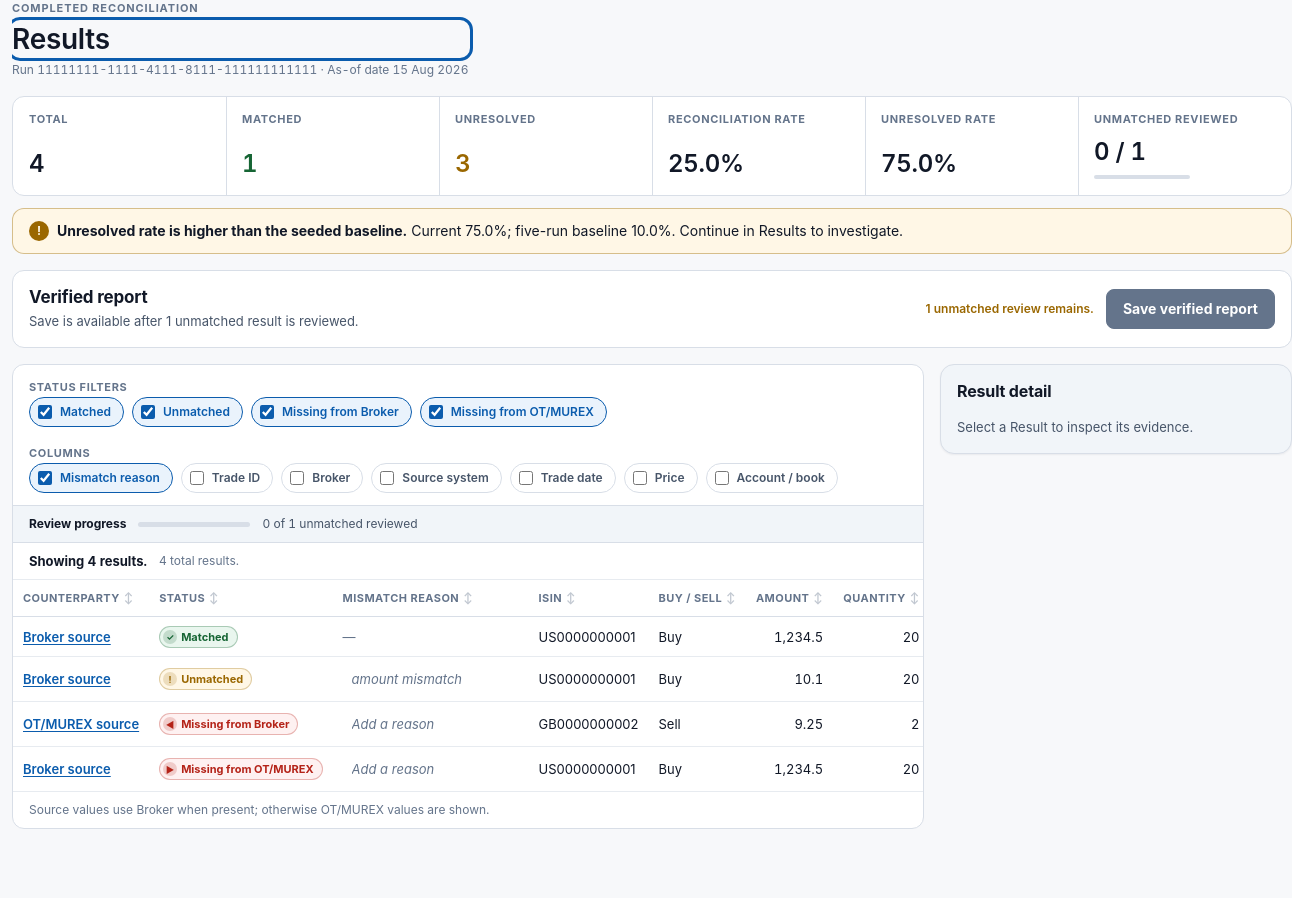
Test: Results workspace table › prefills and saves an unresolved comment only after the authoritative workspace confirms it
The width and height of the screenshot is (1292, 898).
Click the button with aria-label "Select BRK-8".
click(67, 679)  # box [23,669,111,689]
(page scrolled)
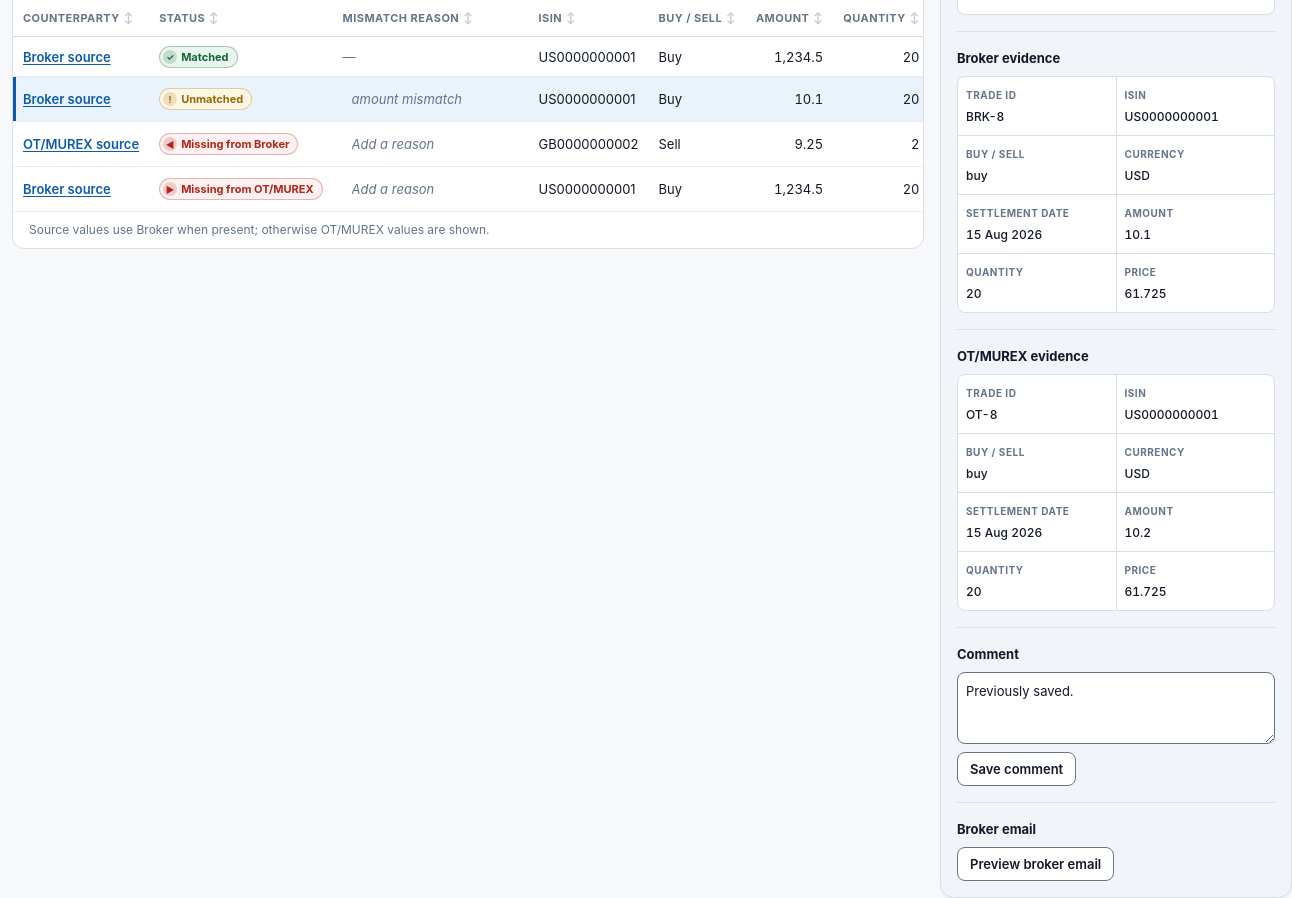
Check: the text box named "Comment" holds "Previously saved."
Replace the text in the text box named "Comment" with "Awaiting broker response." at (1116, 708), box [957,672,1275,744]
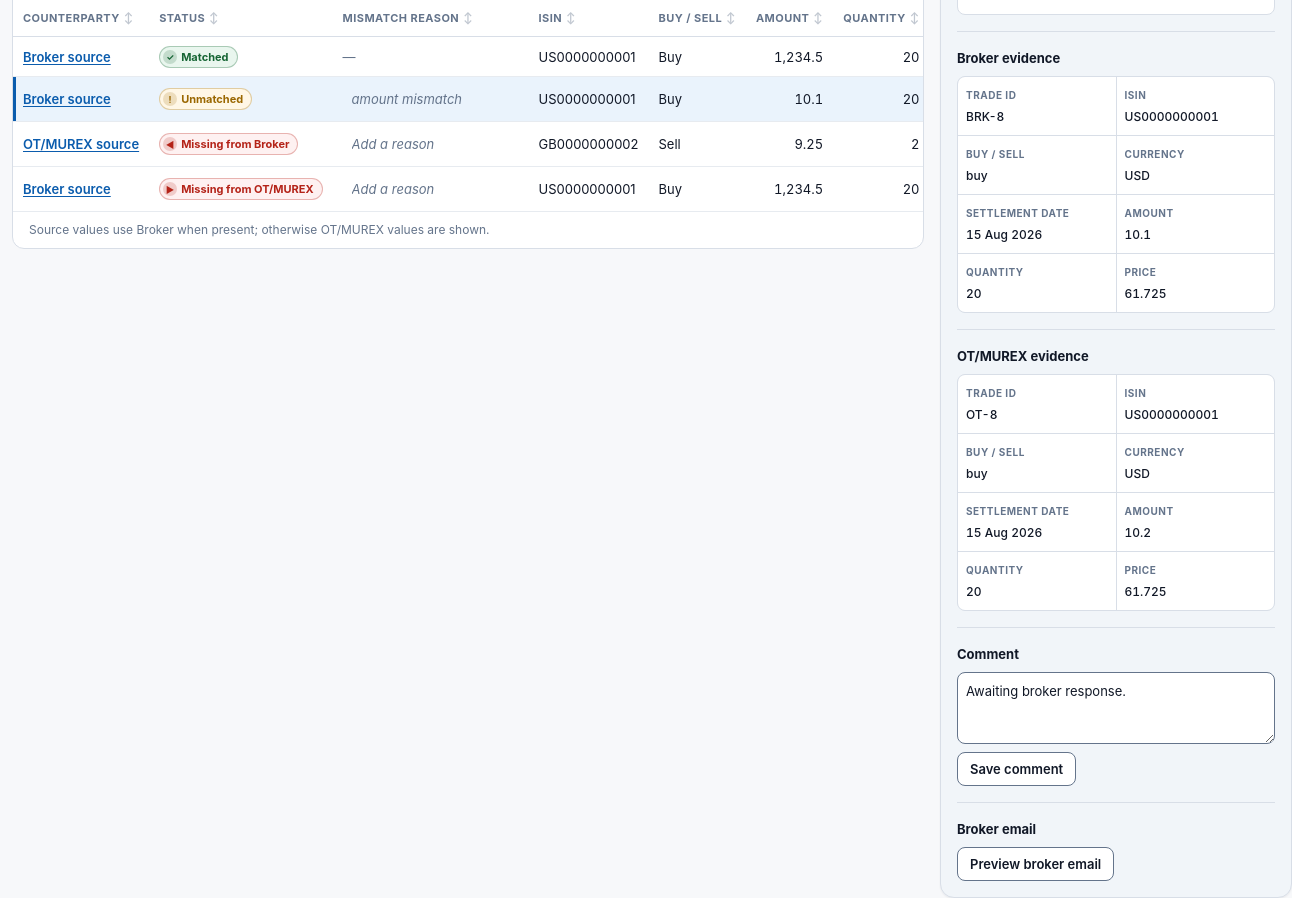
Click the button "Save comment".
click(1017, 769)  # box [957,752,1076,786]
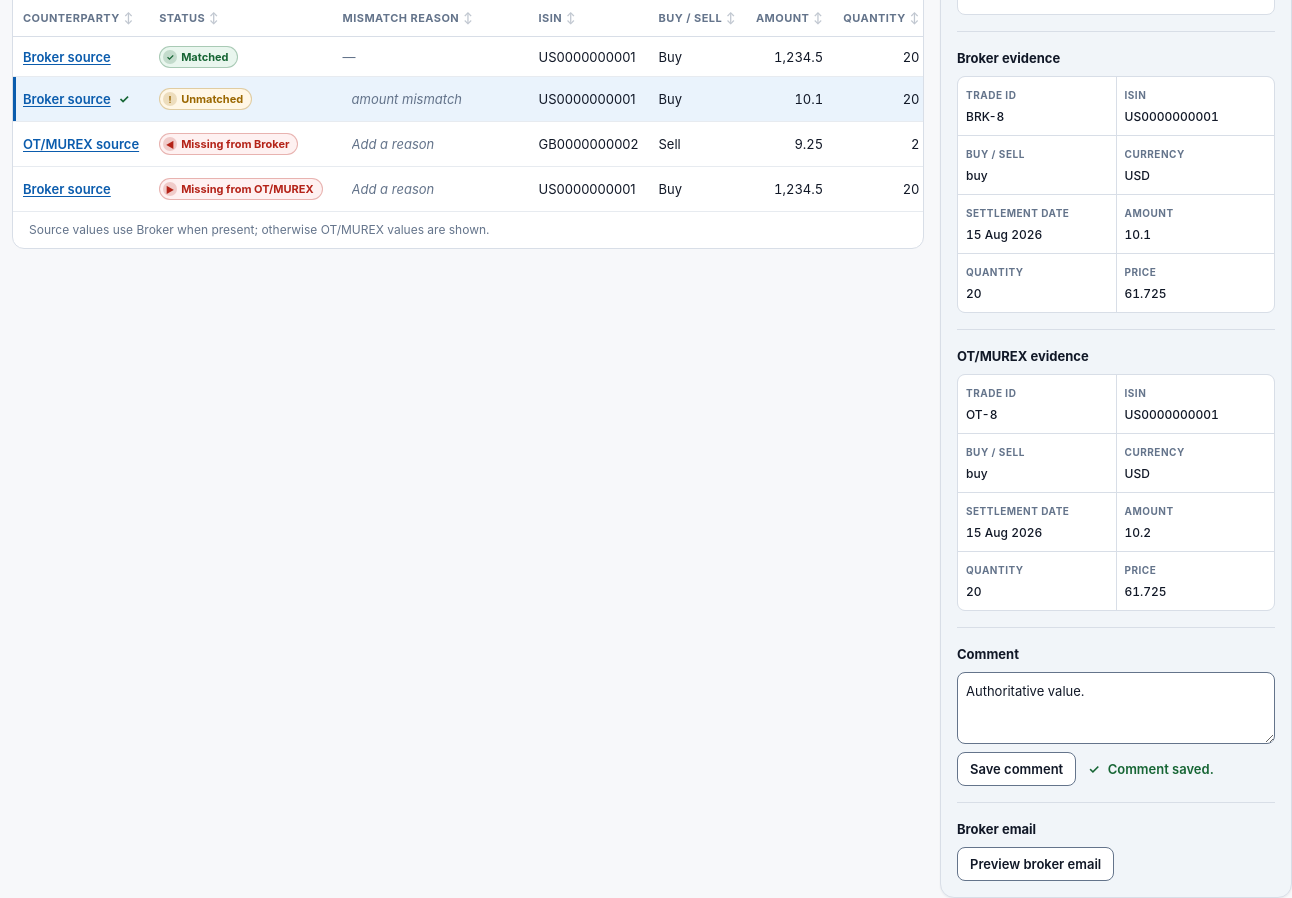
Check: the text box named "Comment" holds "Authoritative value.", box [957,672,1275,744]
Check: the text "Comment saved." is shown, box [1108,761,1214,777]
